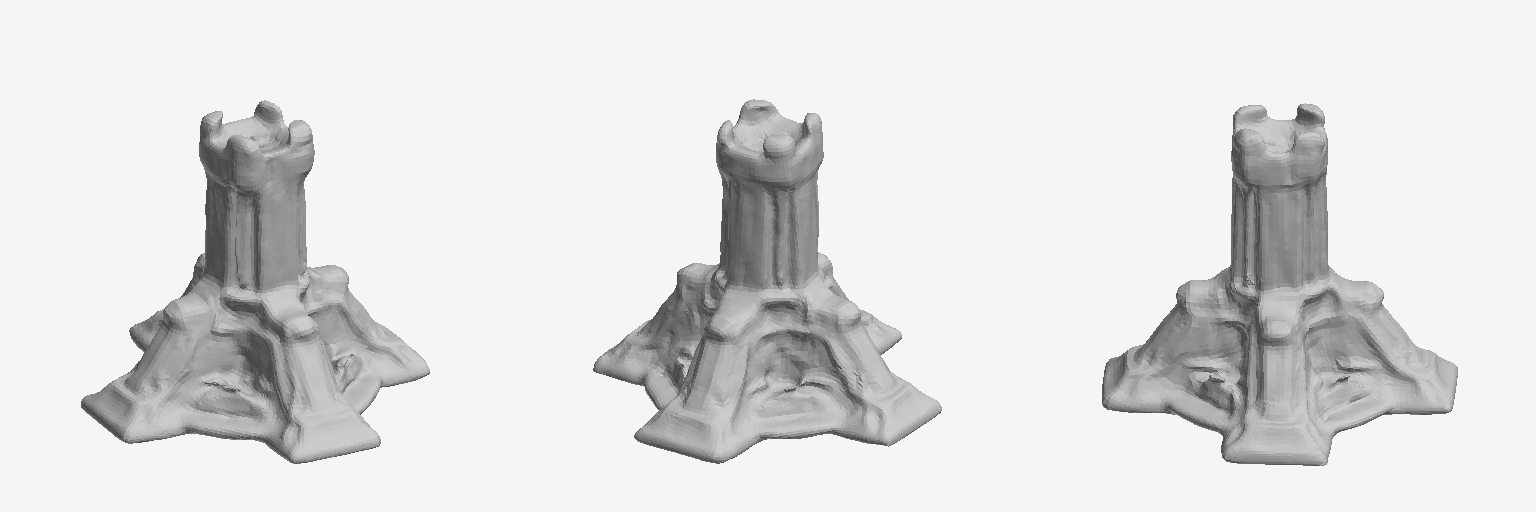
The model's file is cfaf41e49569_a_sci_fi_corner_tow.obj.
3 views of the same model, side by side, from view 1: azimuth 30°, elevation 25°; view 2: azimuth 150°, elevation 25°; view 3: azimuth 270°, elevation 25° (orthographic).
Parts seen in each view (by area): view 1: mesh; view 2: mesh; view 3: mesh.
Boxes of the visible parts, <box> form: mesh: <box>81,100,429,463</box>; mesh: <box>593,99,941,463</box>; mesh: <box>1102,103,1457,465</box>.
Size of the model in its own units: 0.9915 by 0.8456 by 0.9961.